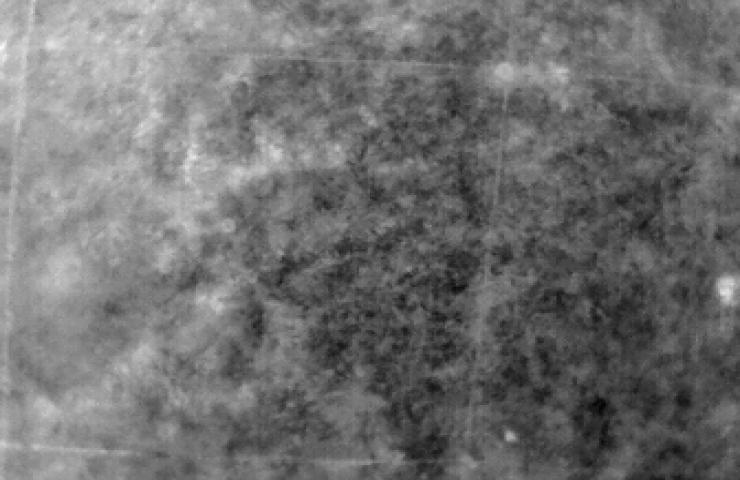landmines: (218, 215, 241, 237)
